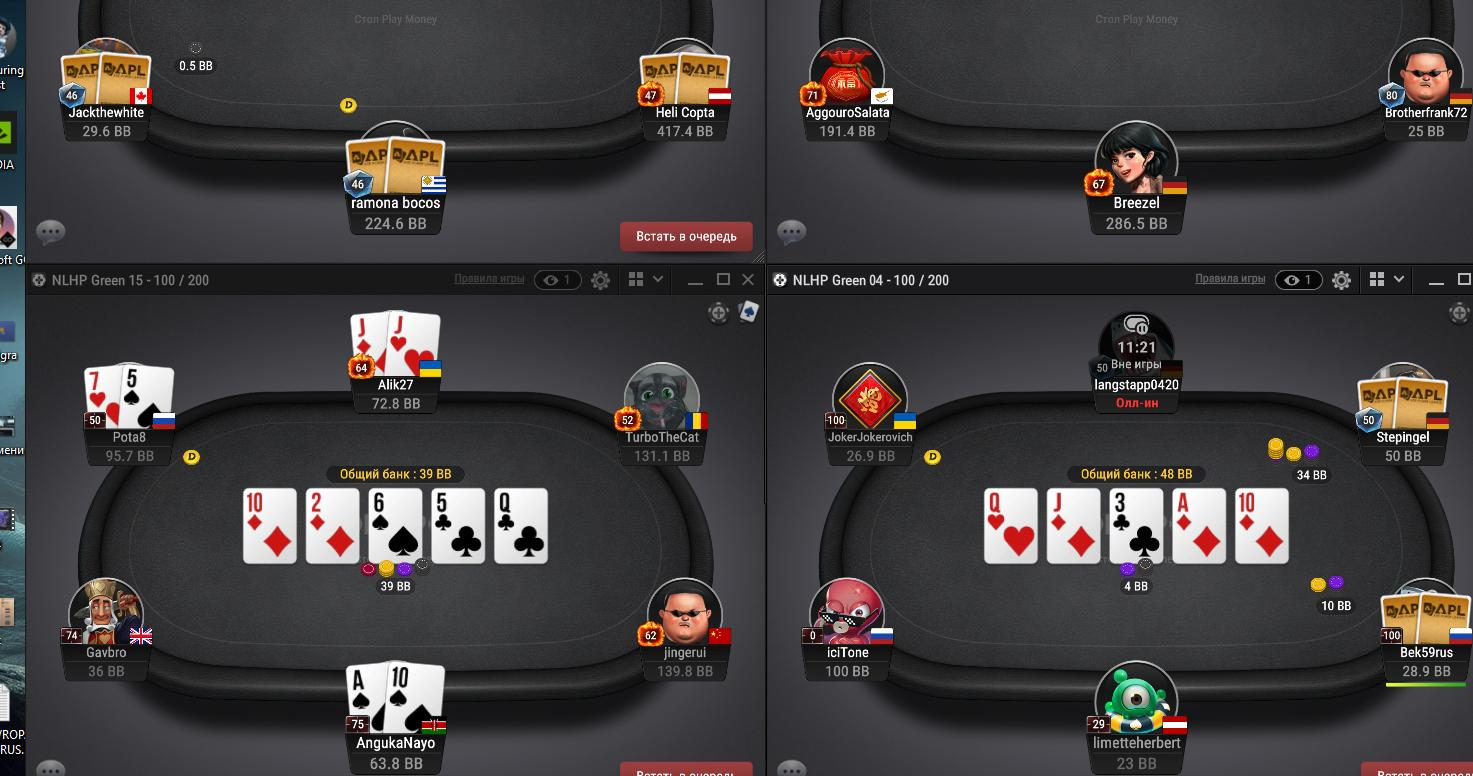10d: (1234, 489, 1286, 564), (245, 489, 297, 563)
10s: (386, 661, 446, 737)
2d: (307, 488, 360, 561)
3c: (1110, 488, 1162, 565)
5c: (432, 488, 484, 564)
5s: (121, 360, 174, 430)
6s: (369, 488, 424, 563)
7h: (84, 368, 121, 424)
Ad: (1174, 489, 1225, 564)
As: (347, 663, 390, 736)
Jd: (1048, 489, 1101, 566), (351, 313, 389, 377)
Jh: (388, 310, 444, 378)
Qc: (495, 489, 546, 563)
Qh: (985, 489, 1039, 564)
